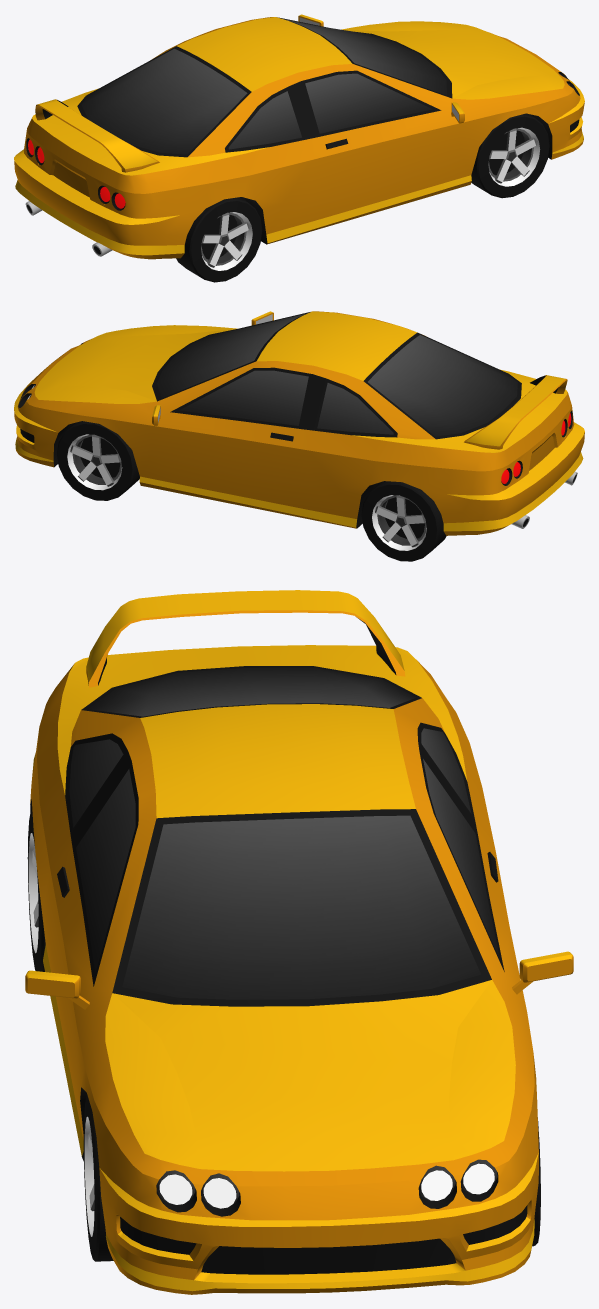
The model's file is Car_136.glb.
3 renders of one model, top to bottom at view 1: azimuth 30°, elevation 25°; view 2: azimuth 150°, elevation 25°; view 3: azimuth 270°, elevation 25°, orthographic. The views are drawn at different scales.
Parts seen in each view (by area): view 1: Car_136, wheel_2_Car_136_Wheel_3R, wheel_0_Car_136_Wheel_1R; view 2: Car_136, wheel_3_Car_136_Wheel_4L, wheel_1_Car_136_Wheel_2L; view 3: Car_136, wheel_0_Car_136_Wheel_1R, wheel_2_Car_136_Wheel_3R.
Boxes of the visible parts, box(x1,y1,x2,y2) form: Car_136: box(14, 14, 584, 259); wheel_2_Car_136_Wheel_3R: box(176, 197, 262, 282); wheel_0_Car_136_Wheel_1R: box(471, 113, 549, 198); Car_136: box(14, 311, 584, 535); wheel_3_Car_136_Wheel_4L: box(361, 481, 446, 561); wheel_1_Car_136_Wheel_2L: box(57, 421, 139, 500); Car_136: box(25, 590, 573, 1294); wheel_0_Car_136_Wheel_1R: box(83, 1095, 113, 1261); wheel_2_Car_136_Wheel_3R: box(27, 810, 45, 971).
Size of the model in its own units: 4.54 by 1.38 by 2.16.
Materials: 3 (3 with a texture image).
